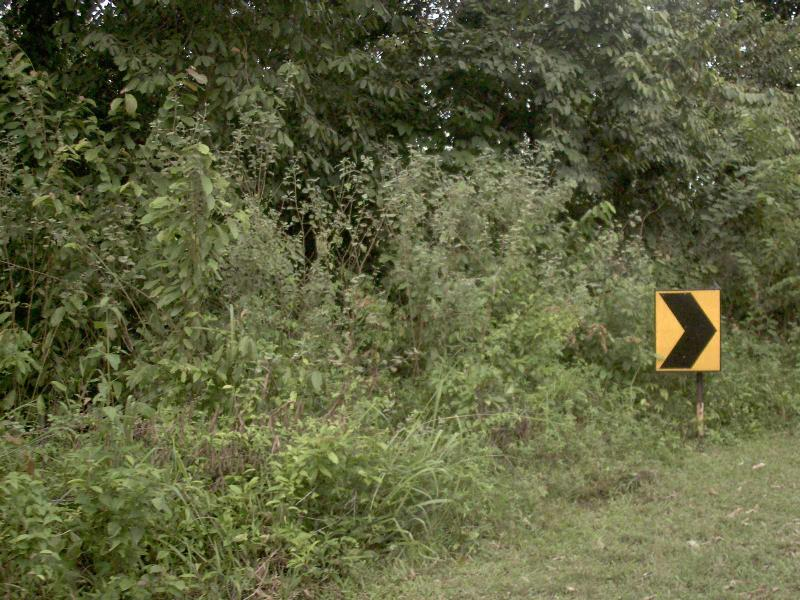traffic_sign: (641, 279, 731, 388)
